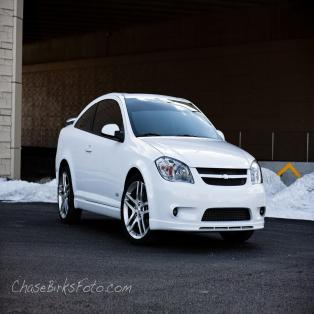Auto: (54, 92, 266, 250)
